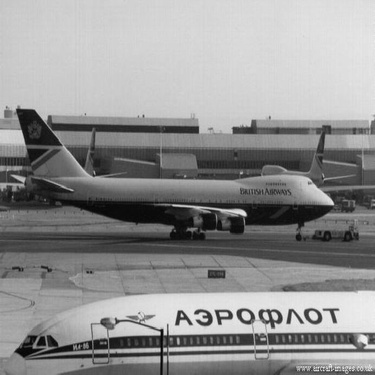airplane: (7, 97, 345, 244), (1, 281, 370, 369), (211, 125, 356, 203), (1, 121, 127, 205)
